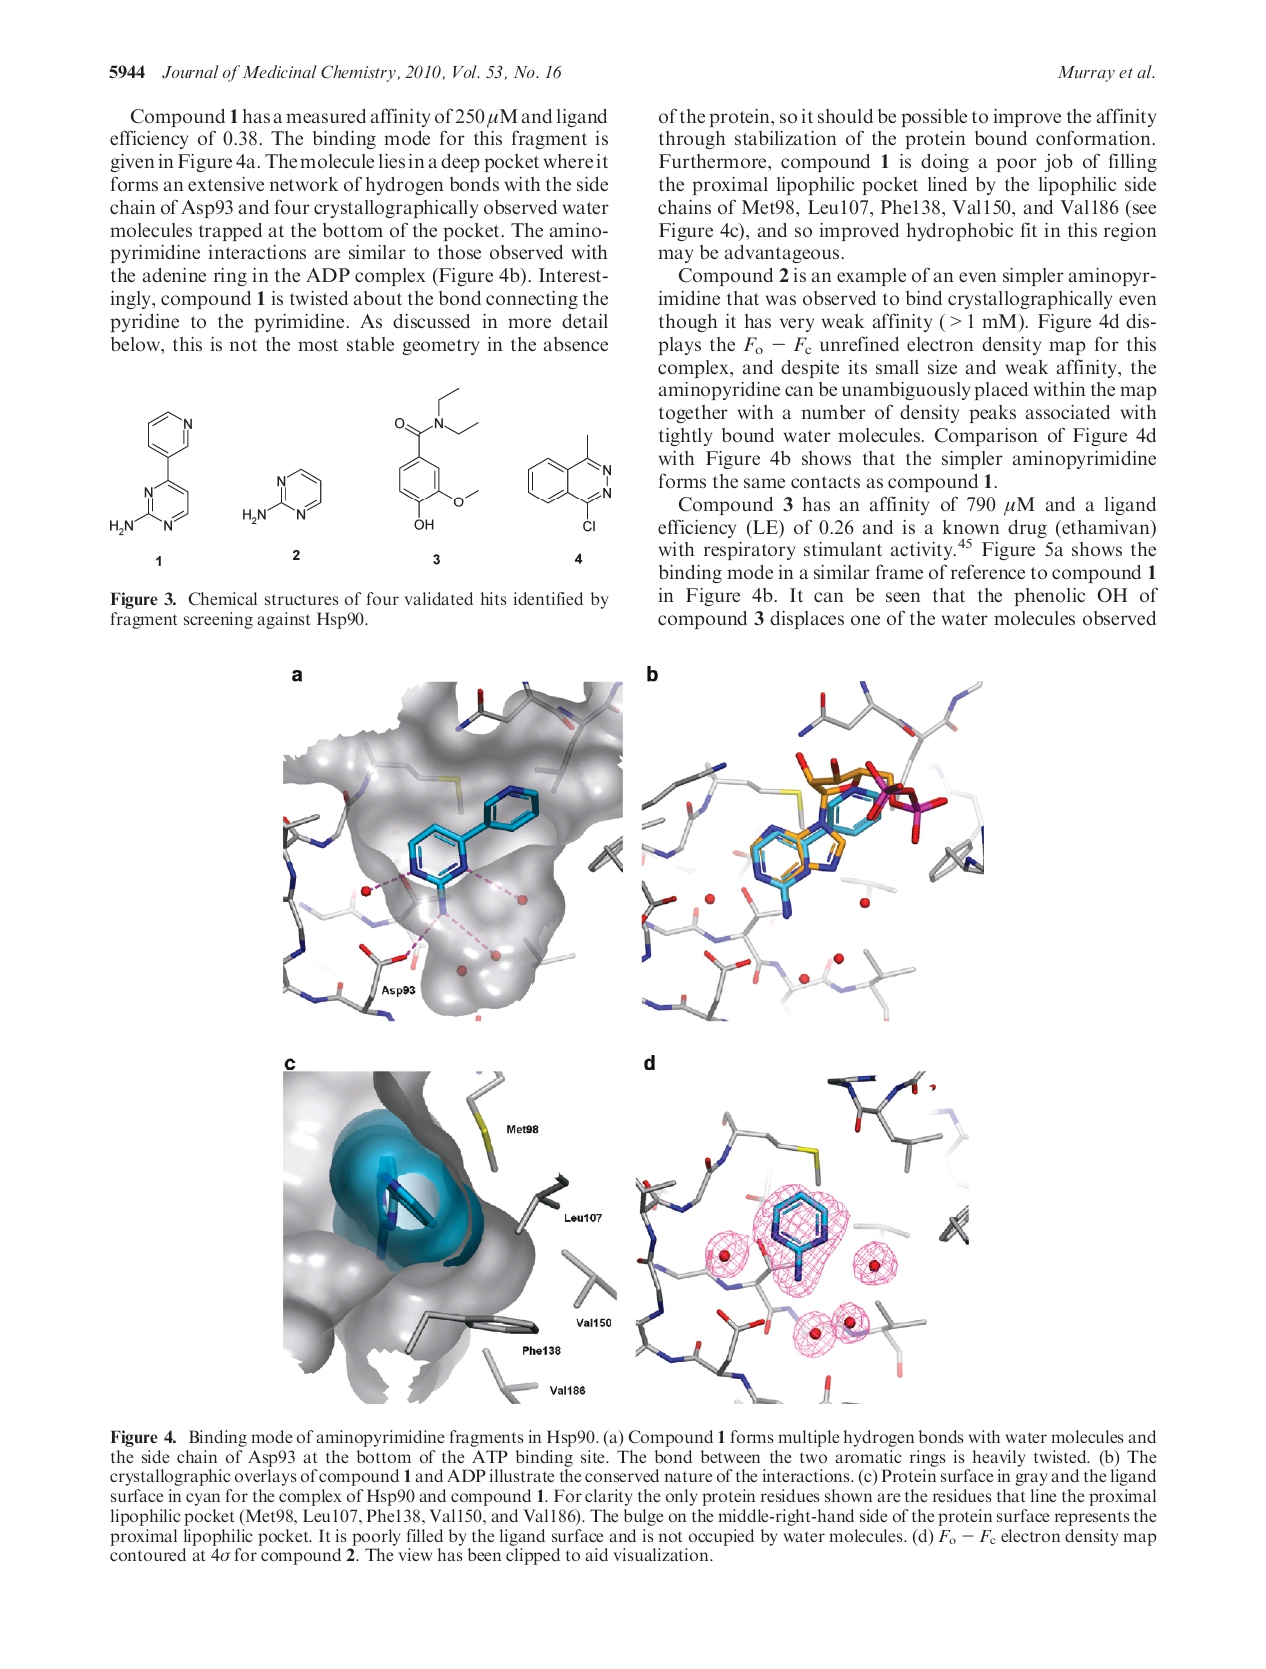exist_molecular: (386, 380, 493, 539), (106, 407, 206, 547), (523, 428, 620, 532), (235, 463, 351, 532)
